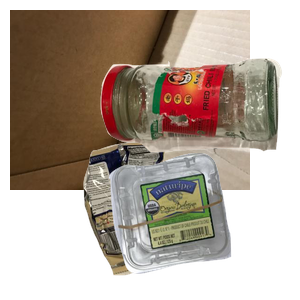cardboard: (10, 10, 250, 190)
glass: (98, 56, 300, 201)
plastic: (106, 151, 300, 300)
trash: (81, 137, 280, 300)
